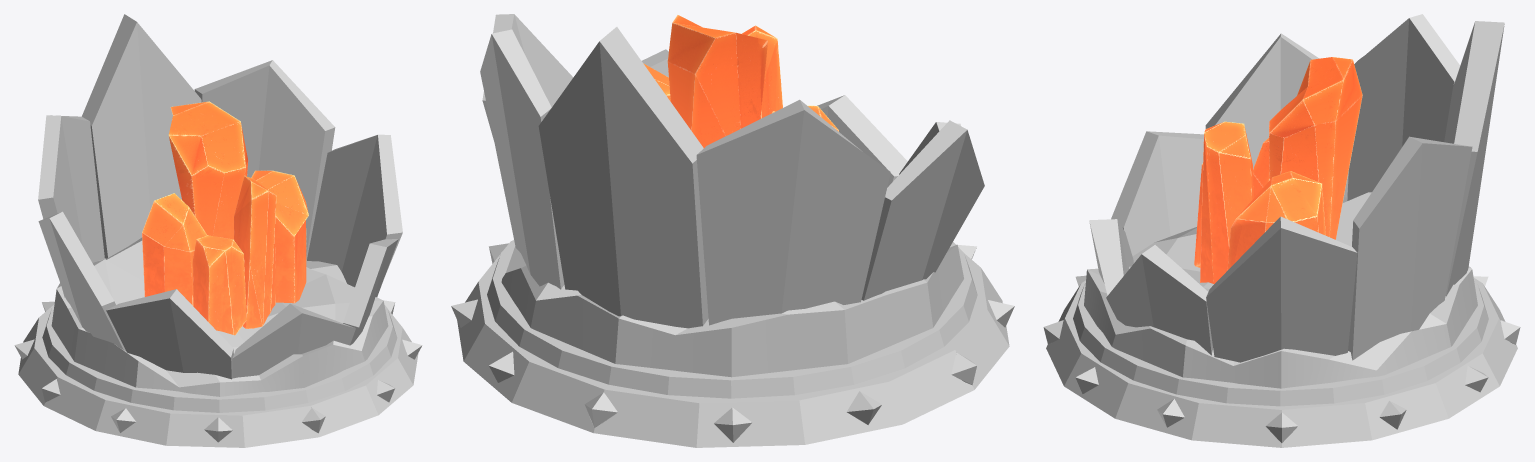
The picture shows the model from 3 angles, left to right: view 1: azimuth 30°, elevation 25°; view 2: azimuth 150°, elevation 25°; view 3: azimuth 270°, elevation 25°; orthographic projection. The views are drawn at different scales.
Parts seen in each view (by area): view 1: 10_zemin, 10_1; view 2: 10_zemin, 10_1; view 3: 10_zemin, 10_1.
Part boxes in pixels (left/top/right/bottom): 10_zemin: left=14, top=14, right=422, bottom=447; 10_1: left=142, top=101, right=308, bottom=335; 10_zemin: left=451, top=14, right=1014, bottom=447; 10_1: left=643, top=15, right=838, bottom=147; 10_zemin: left=1043, top=14, right=1520, bottom=447; 10_1: left=1194, top=57, right=1362, bottom=283.
Bounding box in the file's own units: 1047 × 795 × 1047.
